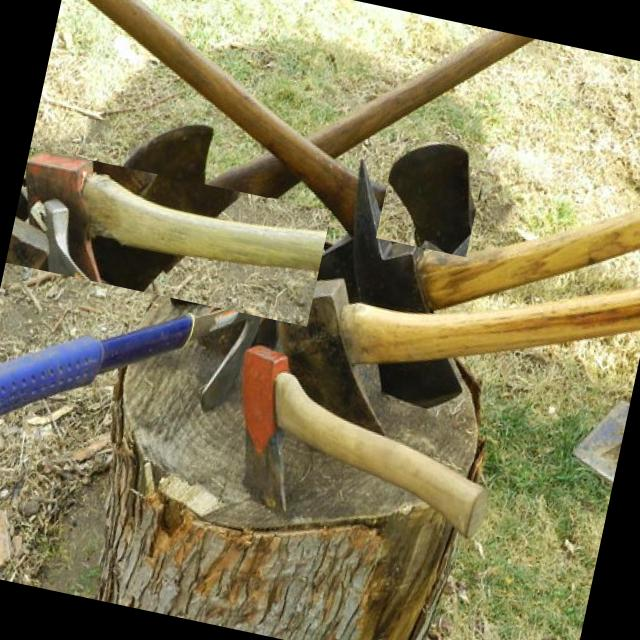Axe: (87, 0, 357, 230), (273, 279, 640, 431), (0, 248, 305, 414), (241, 345, 487, 536), (352, 165, 640, 313), (25, 153, 326, 282), (311, 30, 532, 157), (121, 124, 299, 212), (389, 144, 474, 253), (153, 253, 234, 303), (381, 361, 459, 407), (308, 241, 356, 291), (201, 325, 240, 351), (256, 315, 273, 346)
